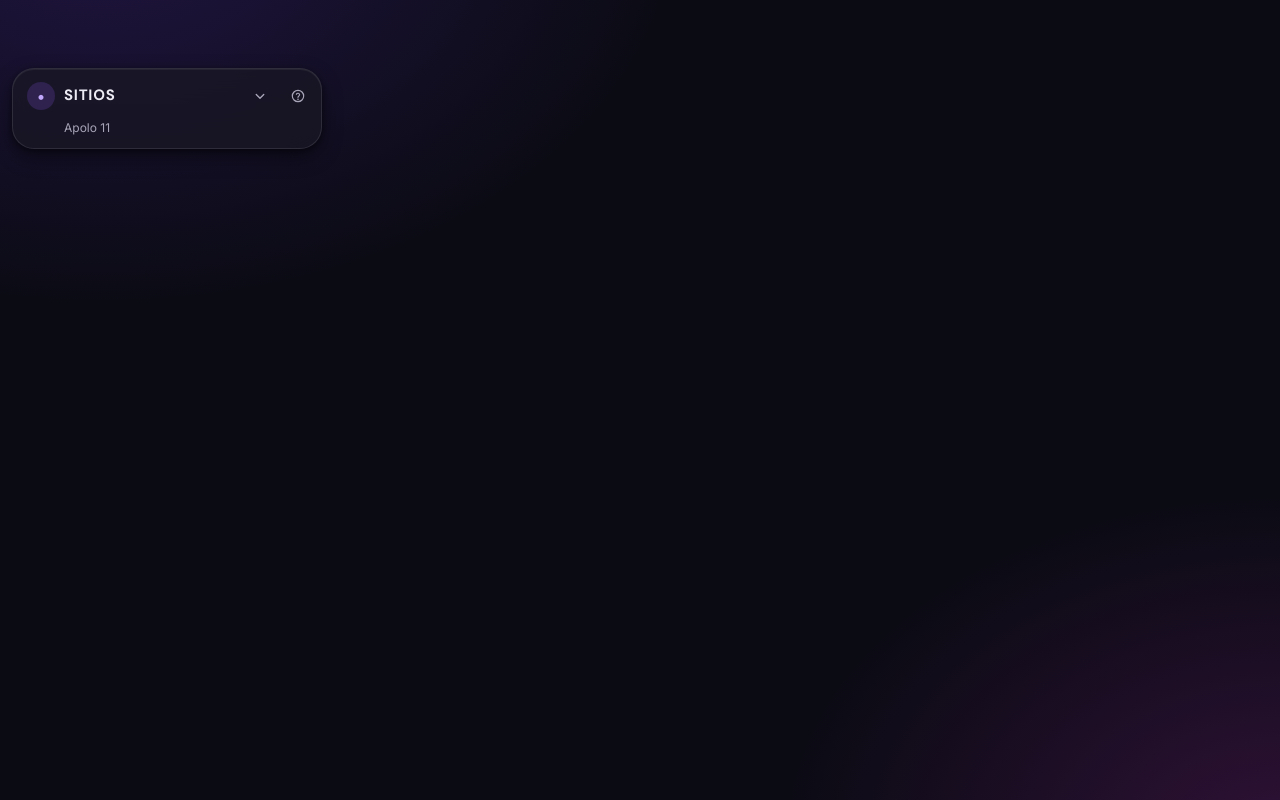
Test: CollapsiblePanel › expands on click and remembers the choice
Click the button with aria-label "Expandir Sitios" at point(148, 96), box [19,77,277,115]
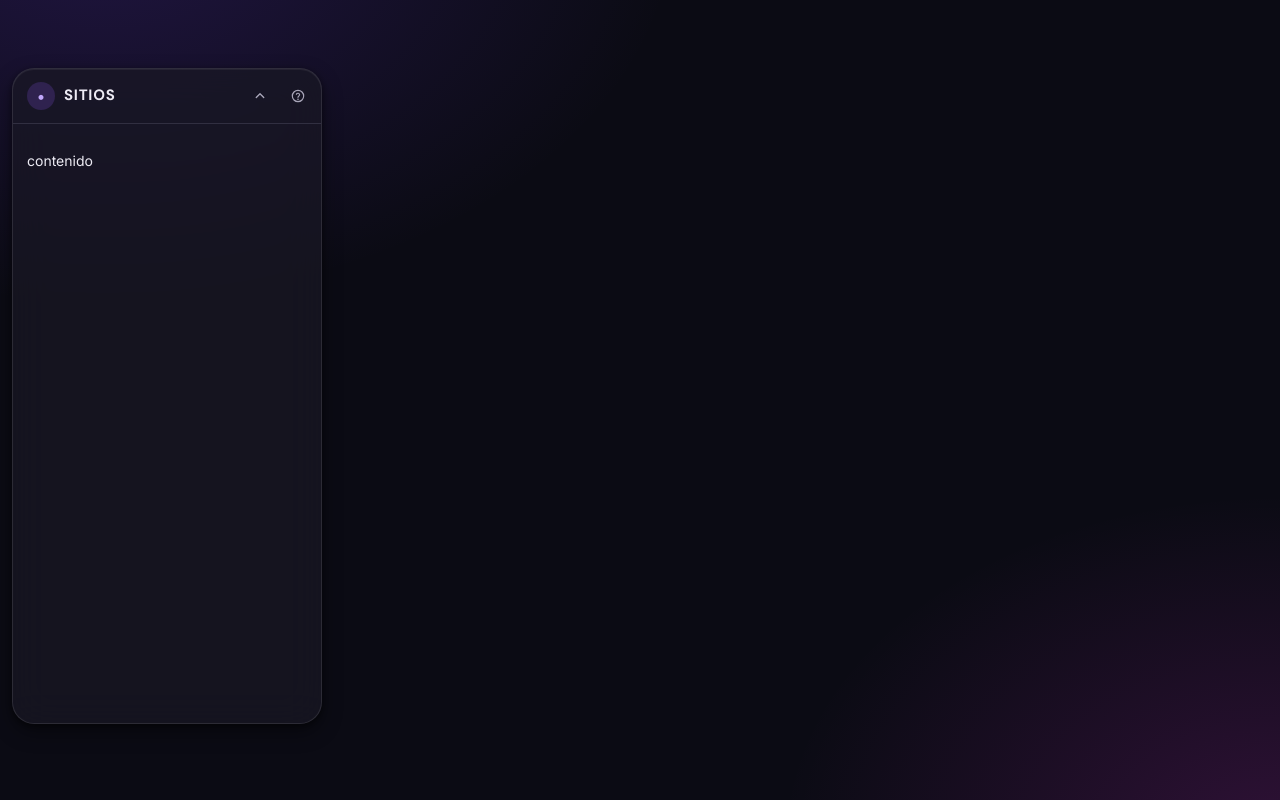
Now the text "contenido" is shown, box [27,152,93,169]
Now the button with aria-label "Minimizar Sitios" is expanded, box [19,77,277,115]
